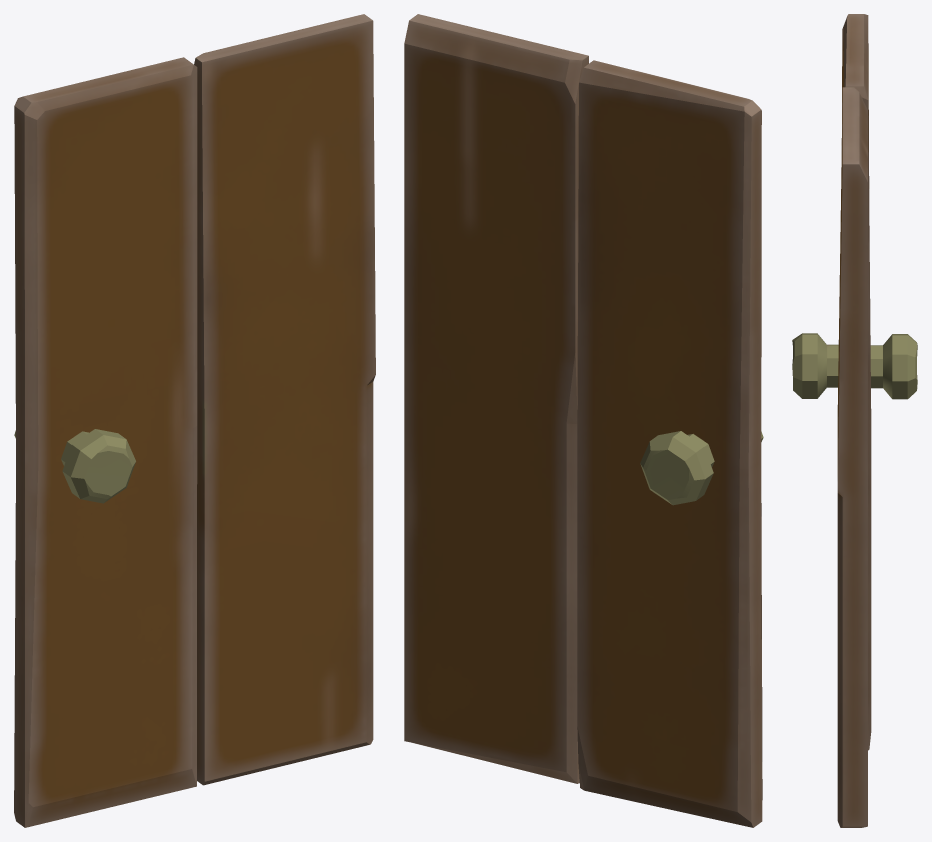
File: Windowflap1.fbx
3 renders of one model, left to right at view 1: azimuth 30°, elevation 25°; view 2: azimuth 150°, elevation 25°; view 3: azimuth 270°, elevation 25°, orthographic. The views are drawn at different scales.
Parts seen in each view (by area): view 1: windowflap1; view 2: windowflap1; view 3: windowflap1.
Boxes of the visible parts, bbox=[...] form: windowflap1: bbox=[14, 14, 375, 827]; windowflap1: bbox=[404, 14, 763, 827]; windowflap1: bbox=[792, 14, 917, 827].
Size of the model in its own units: 17.43 by 5.93 by 34.78.
1 material, 1 textured.
